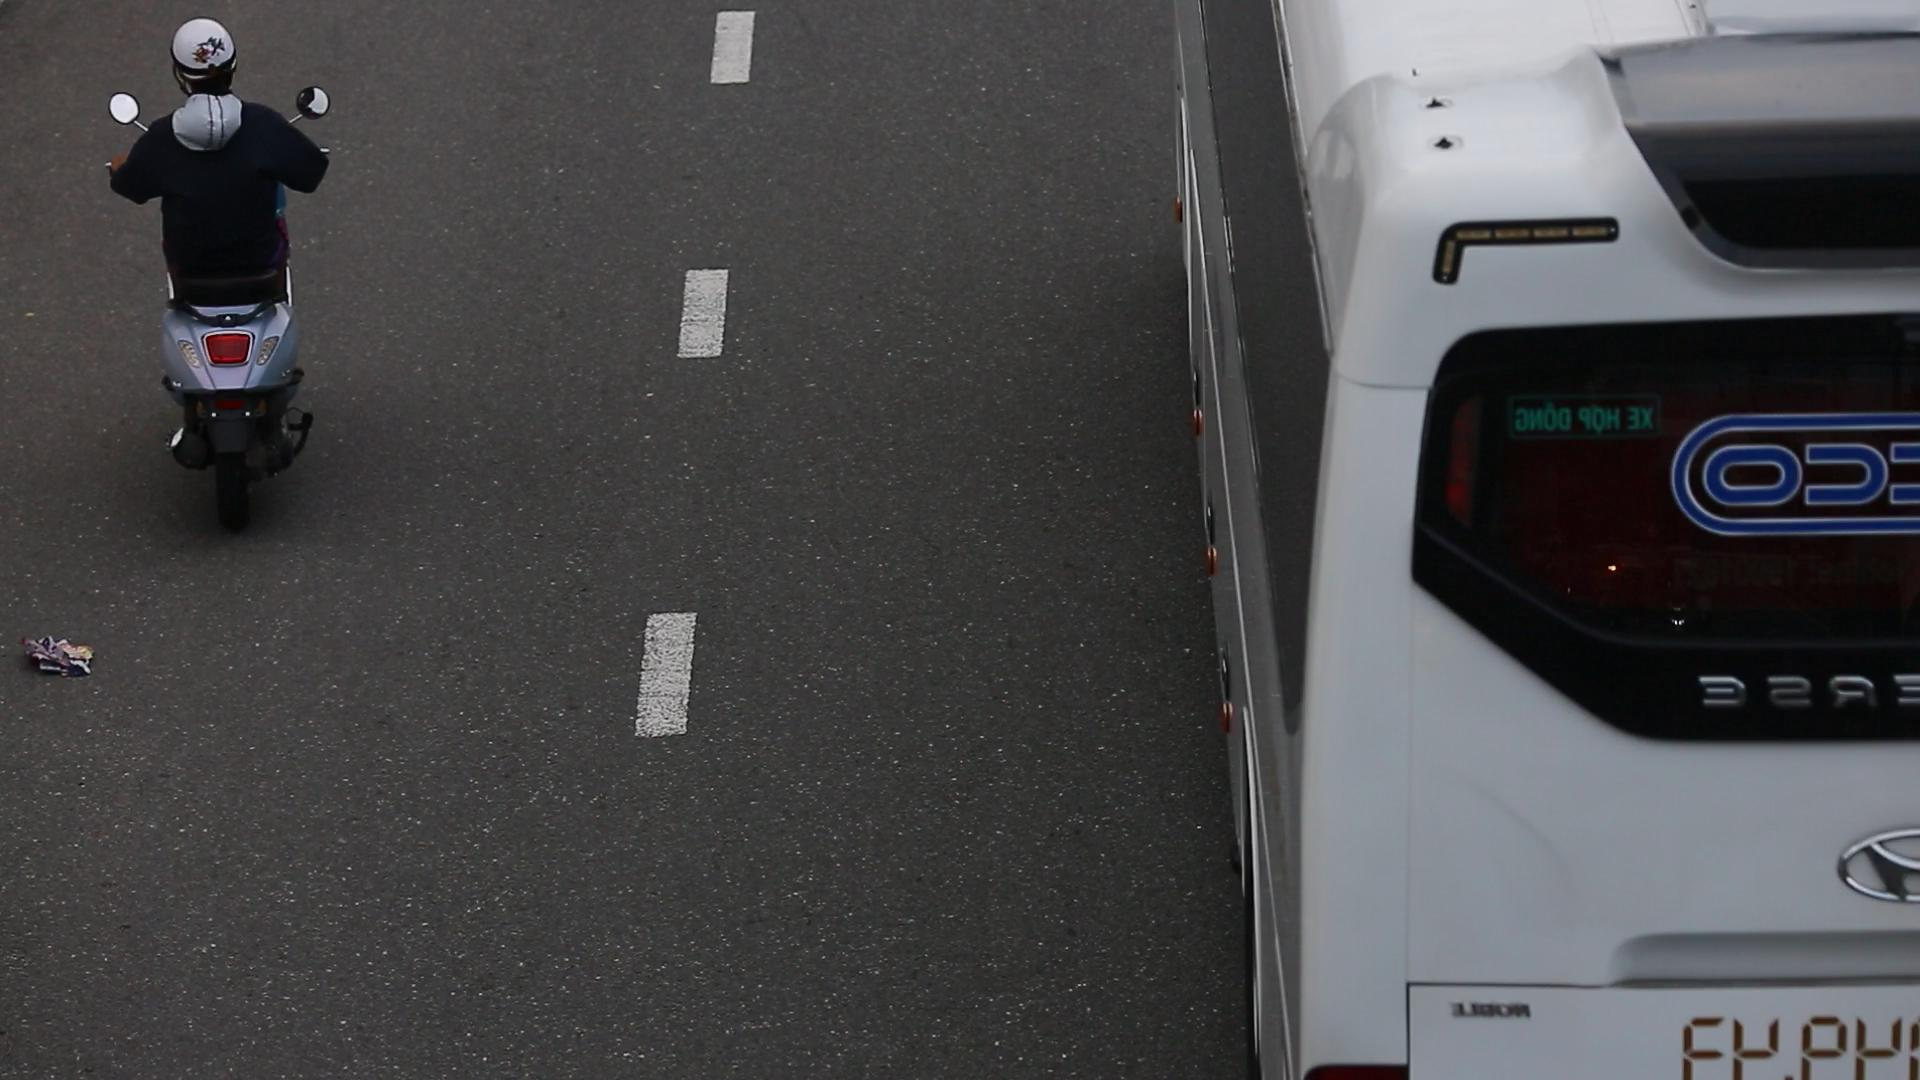motobike: (115, 16, 373, 521)
